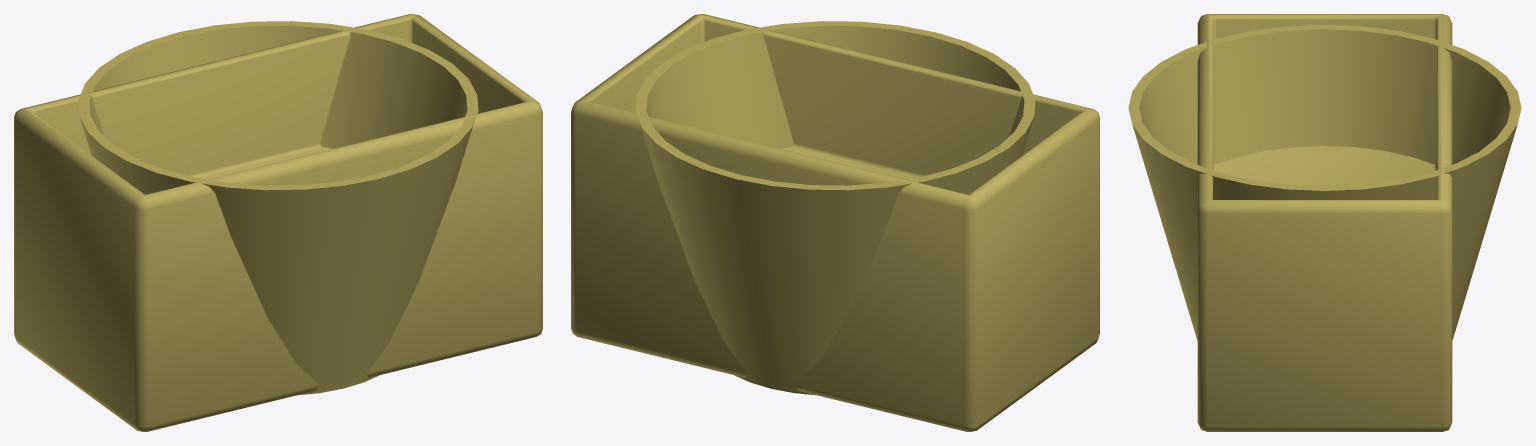
The model's file is basket.fbx.
3 views of the same model, side by side, from view 1: azimuth 30°, elevation 25°; view 2: azimuth 150°, elevation 25°; view 3: azimuth 270°, elevation 25° (orthographic).
Parts seen in each view (by area): view 1: KUP, BASKET; view 2: KUP, BASKET; view 3: KUP, BASKET.
Part boxes in pixels (left/top/right/bottom): KUP: left=14, top=14, right=542, bottom=431; BASKET: left=78, top=21, right=478, bottom=395; KUP: left=571, top=14, right=1099, bottom=431; BASKET: left=635, top=21, right=1035, bottom=395; KUP: left=1197, top=14, right=1452, bottom=431; BASKET: left=1128, top=25, right=1521, bottom=340.
Bounding box in the file's own units: 362 × 200 × 309.
